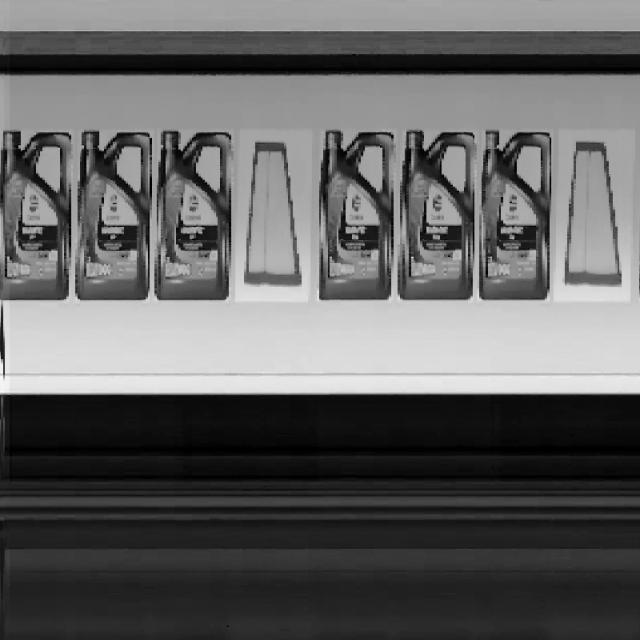air_filter: (240, 134, 304, 298), (559, 136, 624, 294)
motor_oil: (153, 129, 237, 303), (316, 126, 395, 305), (73, 129, 153, 302), (397, 130, 476, 304), (478, 126, 554, 303), (0, 130, 73, 304)
